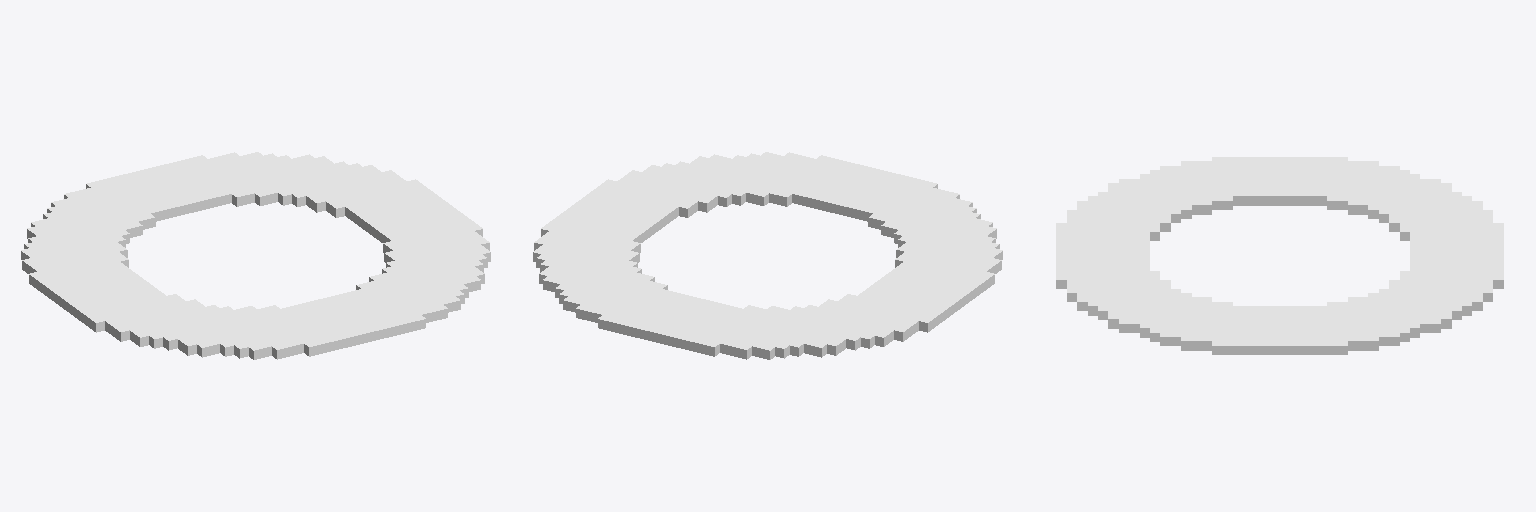
File: Dounet.obj
3 views of the same model, side by side, from view 1: azimuth 30°, elevation 25°; view 2: azimuth 150°, elevation 25°; view 3: azimuth 270°, elevation 25° (orthographic).
Bounding box in the file's own units: 43 × 1 × 43.